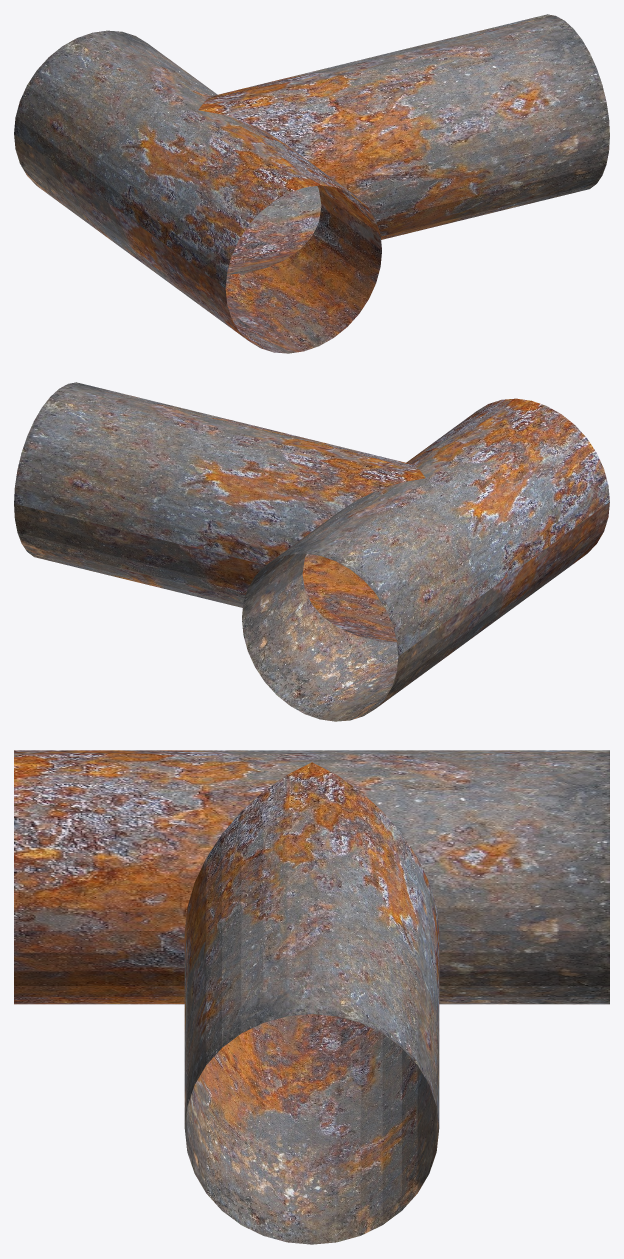
File: cilinder2.dae
The picture shows the model from 3 angles, top to bottom: view 1: azimuth 30°, elevation 25°; view 2: azimuth 150°, elevation 25°; view 3: azimuth 270°, elevation 25°; orthographic projection. The views are drawn at different scales.
Parts seen in each view (by area): view 1: Cylinder; view 2: Cylinder; view 3: Cylinder.
Boxes of the visible parts, x1,y1,x2,y2 form: Cylinder: (14,14,609,353); Cylinder: (14,382,609,721); Cylinder: (14,750,609,1244).
Size of the model in its own units: 5.69 by 4.69 by 2.
1 material, 1 textured.
